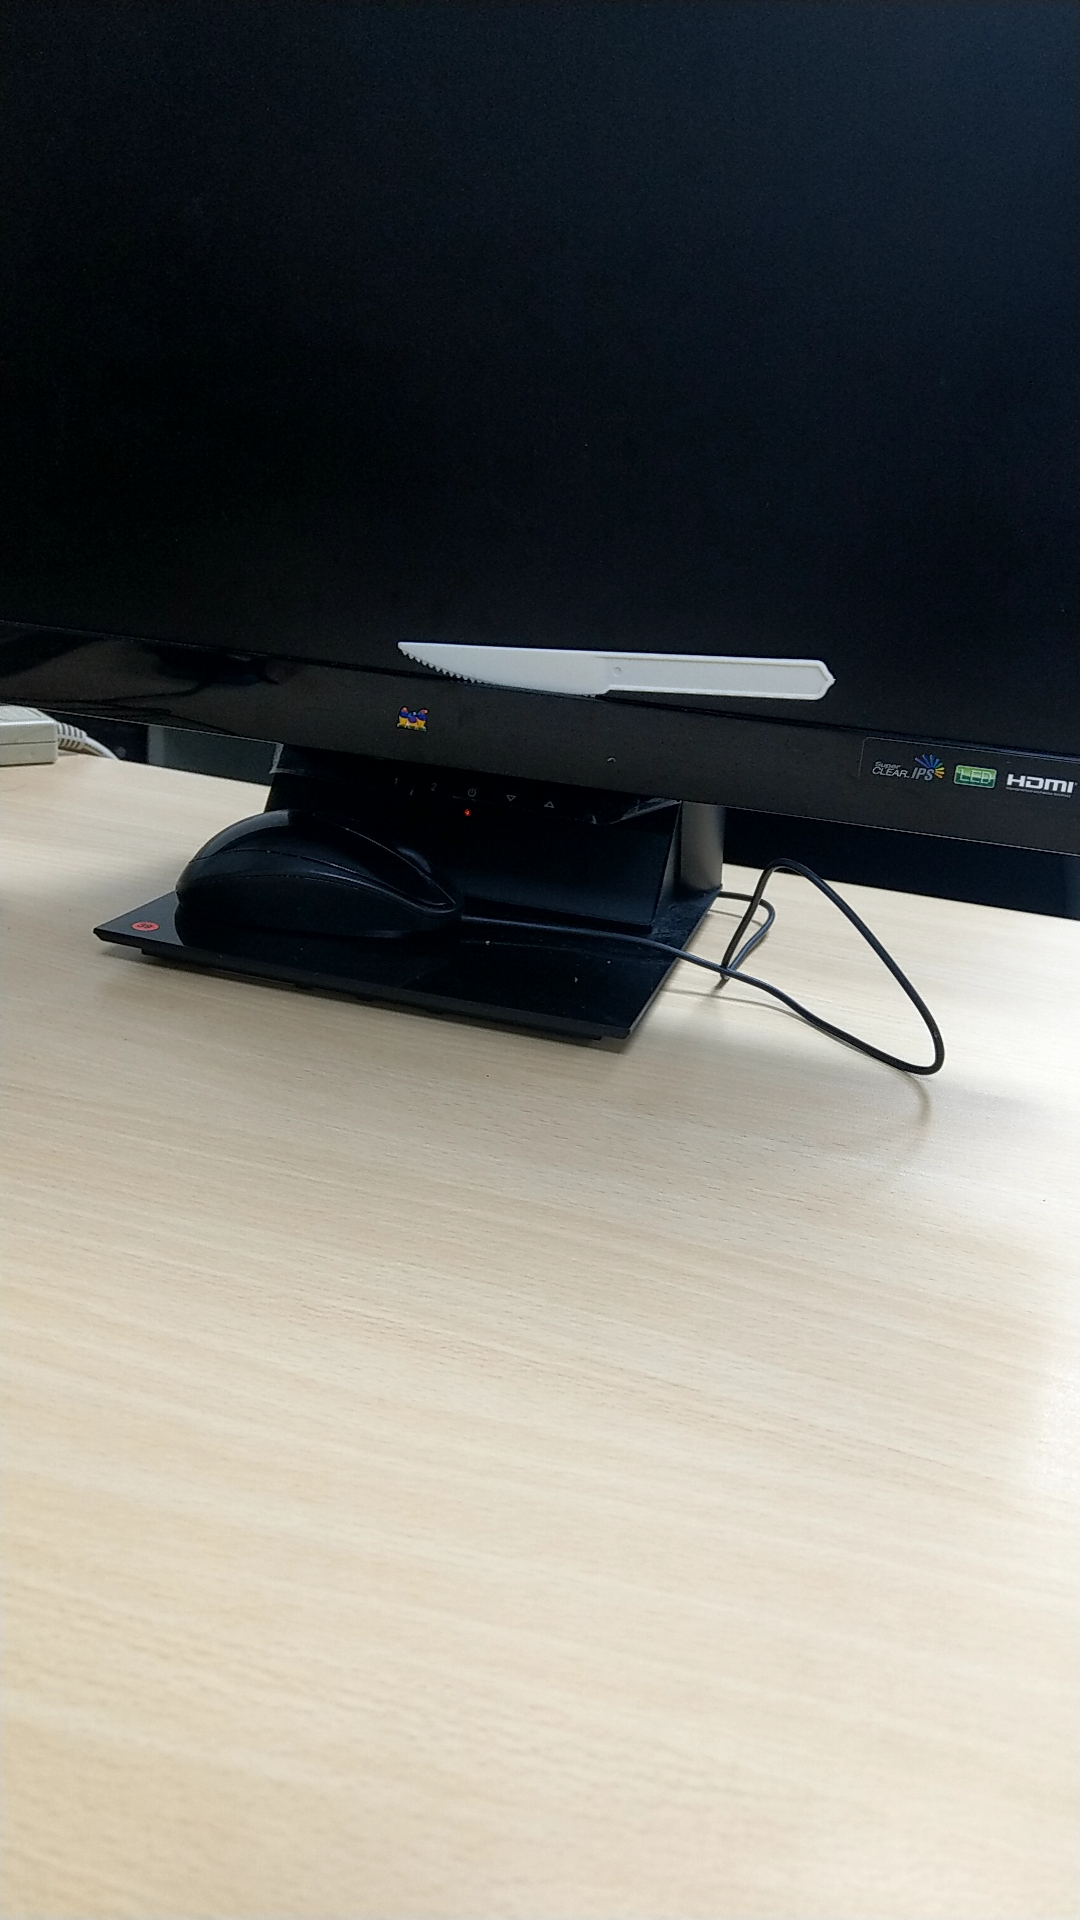knife: (373, 615, 855, 713)
